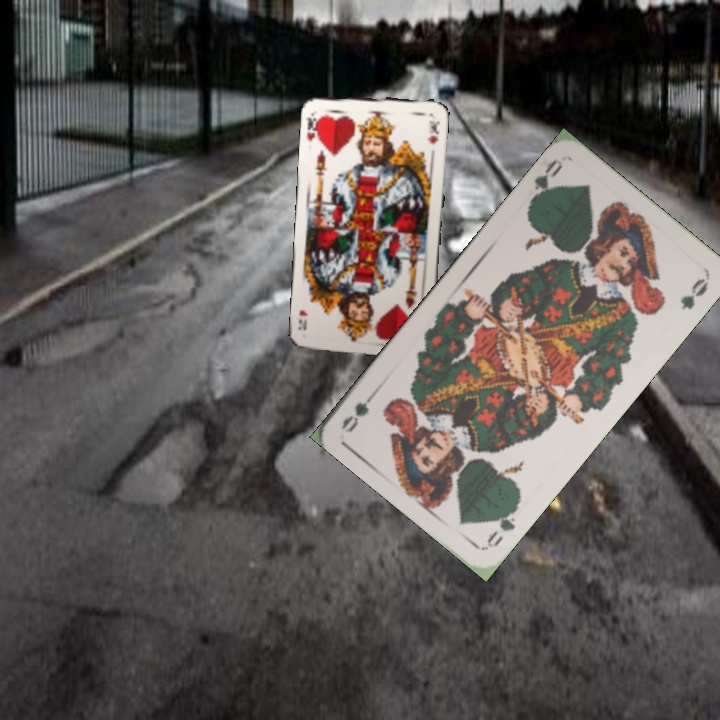GO: (525, 155, 565, 209), (483, 499, 522, 551)
HK: (302, 106, 323, 144)
